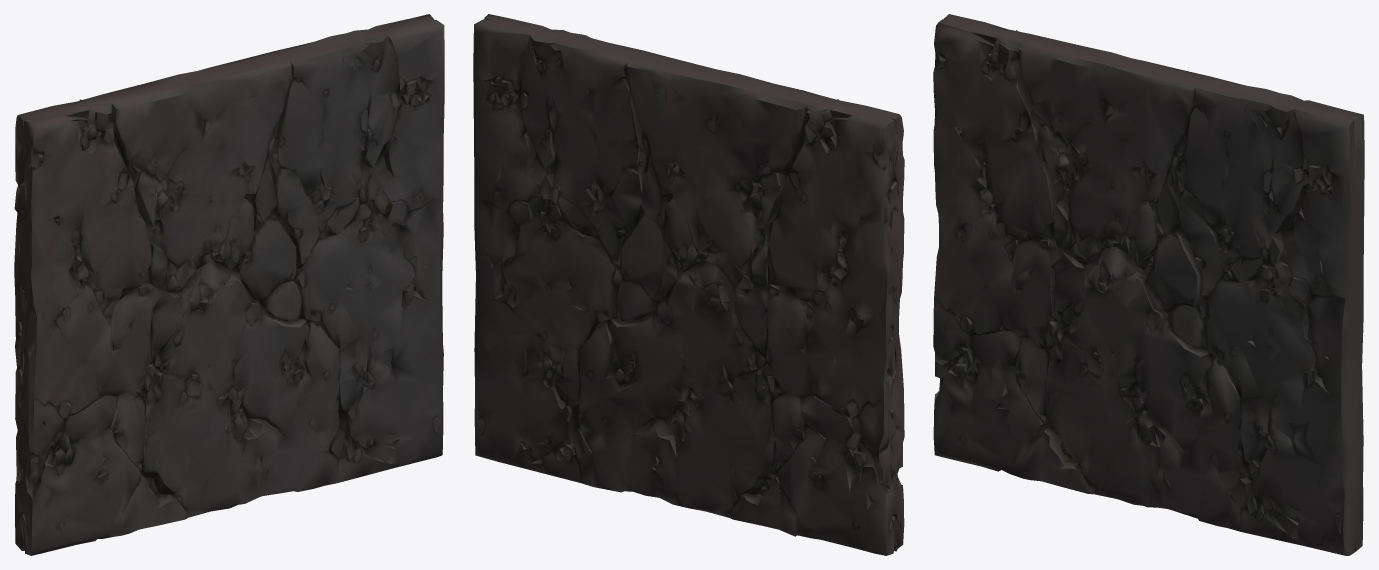
File: mine_wall_rock_idle.glb
The picture shows the model from 3 angles, left to right: view 1: azimuth 30°, elevation 25°; view 2: azimuth 150°, elevation 25°; view 3: azimuth 330°, elevation 25°; orthographic projection.
Parts seen in each view (by area): view 1: tripo_node_ad707a4d-0ea7-4c98-9e02-2e1cf6fad945; view 2: tripo_node_ad707a4d-0ea7-4c98-9e02-2e1cf6fad945; view 3: tripo_node_ad707a4d-0ea7-4c98-9e02-2e1cf6fad945.
Part boxes in pixels (bbox=[...]): tripo_node_ad707a4d-0ea7-4c98-9e02-2e1cf6fad945: bbox=[14, 14, 444, 555]; tripo_node_ad707a4d-0ea7-4c98-9e02-2e1cf6fad945: bbox=[473, 14, 904, 555]; tripo_node_ad707a4d-0ea7-4c98-9e02-2e1cf6fad945: bbox=[933, 14, 1364, 555].
Bounding box in the file's own units: 0.9995 × 1 × 0.1012.
1 material, 1 textured.
